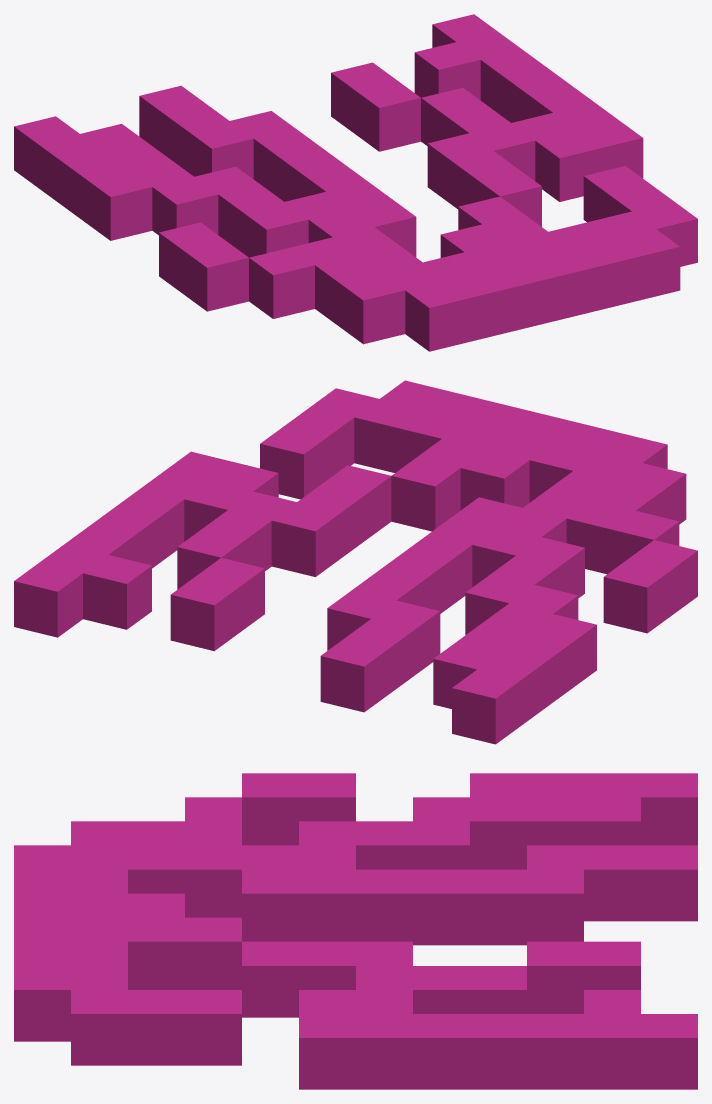
Rendered from alien_crawl2.fbx.
The picture shows the model from 3 angles, top to bottom: view 1: azimuth 30°, elevation 25°; view 2: azimuth 150°, elevation 25°; view 3: azimuth 270°, elevation 25°; orthographic projection. The views are drawn at different scales.
Visible parts, largest first — view 1: alien_crawl2; view 2: alien_crawl2; view 3: alien_crawl2.
Part boxes in pixels (x1,y1,x2,y2): alien_crawl2: (14, 14, 697, 351); alien_crawl2: (14, 380, 697, 744); alien_crawl2: (14, 773, 697, 1089).
Bounding box in the file's own units: 1.1 × 1.2 × 0.1.
1 material, 1 textured.
